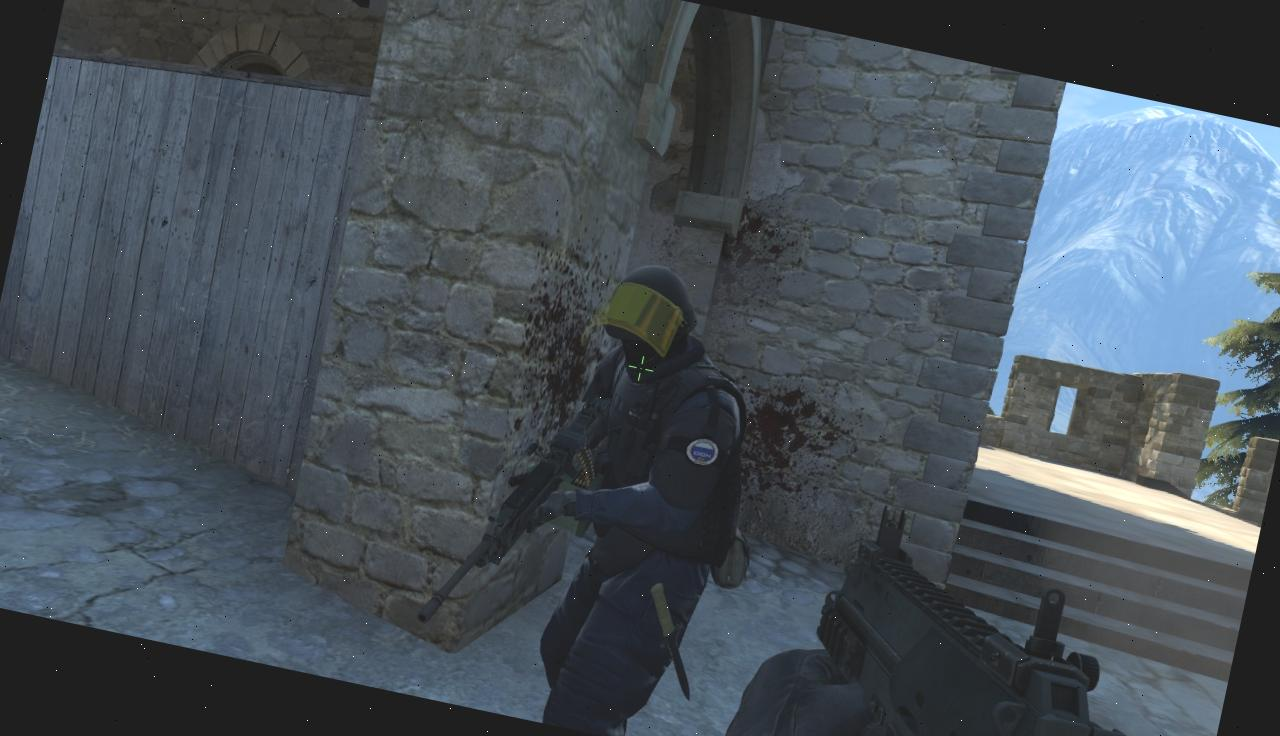ct: (503, 252, 773, 736)
cthead: (596, 260, 702, 364)
rifle: (786, 500, 1182, 736)
